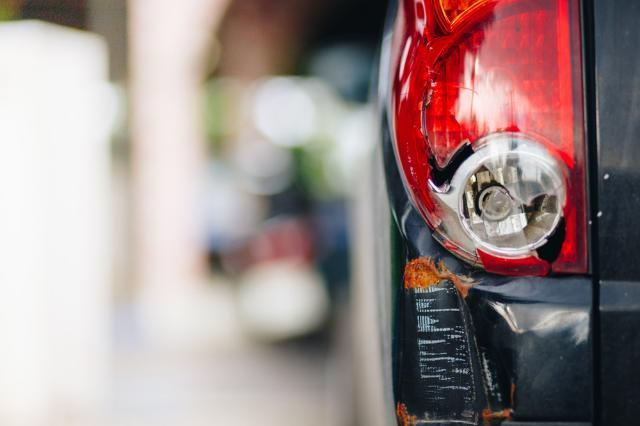lamp broken: (389, 0, 590, 282)
scratch: (414, 280, 507, 404)
